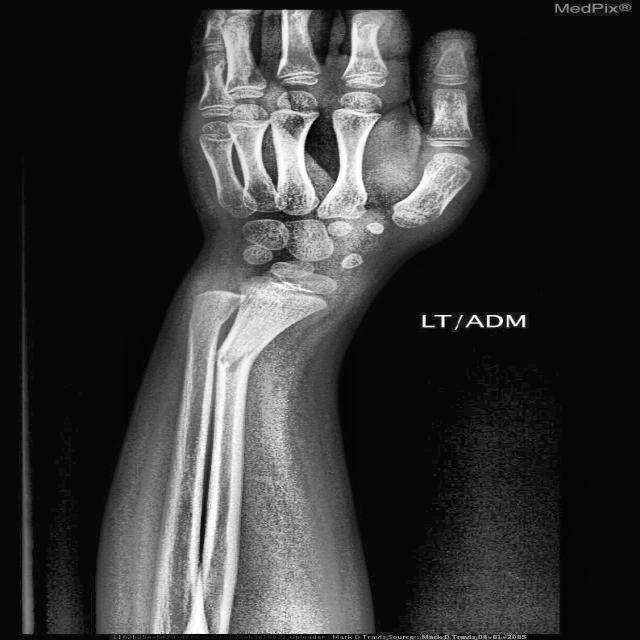angle: (214, 345, 262, 373)
